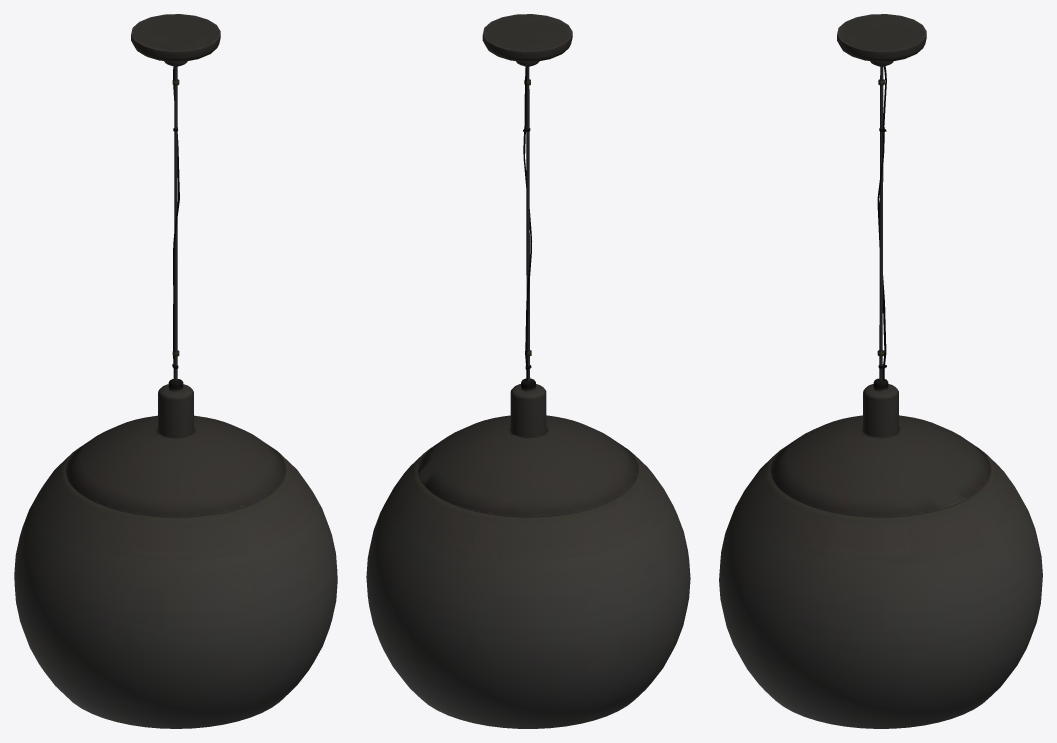
Rendered from modern_ceiling_lamp_01.glb.
3 renders of one model, left to right at view 1: azimuth 30°, elevation 25°; view 2: azimuth 150°, elevation 25°; view 3: azimuth 270°, elevation 25°, orthographic.
Parts seen in each view (by area): view 1: modern_ceiling_lamp_01; view 2: modern_ceiling_lamp_01; view 3: modern_ceiling_lamp_01.
Part boxes in pixels (left/top/right/bottom): modern_ceiling_lamp_01: left=14, top=14, right=337, bottom=728; modern_ceiling_lamp_01: left=366, top=14, right=690, bottom=728; modern_ceiling_lamp_01: left=719, top=14, right=1042, bottom=728.
Bounding box in the file's own units: 0.4317 × 0.9516 × 0.4317.
2 materials, 2 textured.
